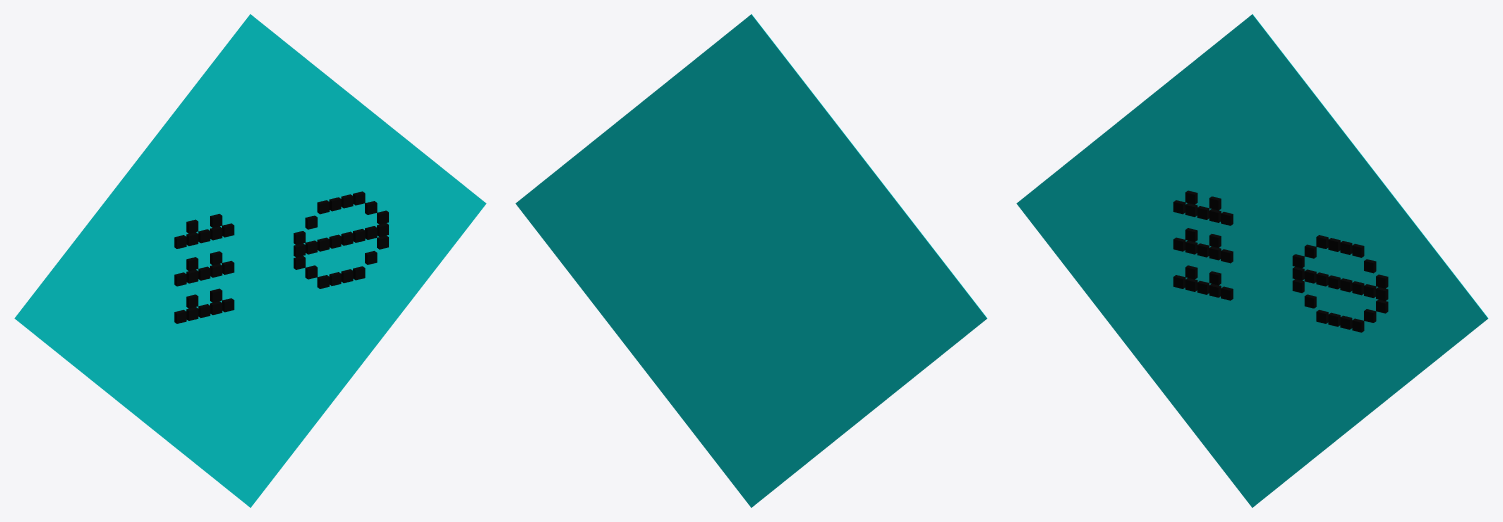
File: InvalidEffectSetCoin.fbx
3 renders of one model, left to right at view 1: azimuth 30°, elevation 25°; view 2: azimuth 150°, elevation 25°; view 3: azimuth 330°, elevation 25°, orthographic.
Parts seen in each view (by area): view 1: Cube.025; view 2: Cube.025; view 3: Cube.025.
Part boxes in pixels (x1,y1,x2,y2): Cube.025: [14, 14, 486, 507]; Cube.025: [515, 14, 987, 507]; Cube.025: [1016, 14, 1488, 507].
Size of the model in its own units: 198 by 198 by 2.1.
